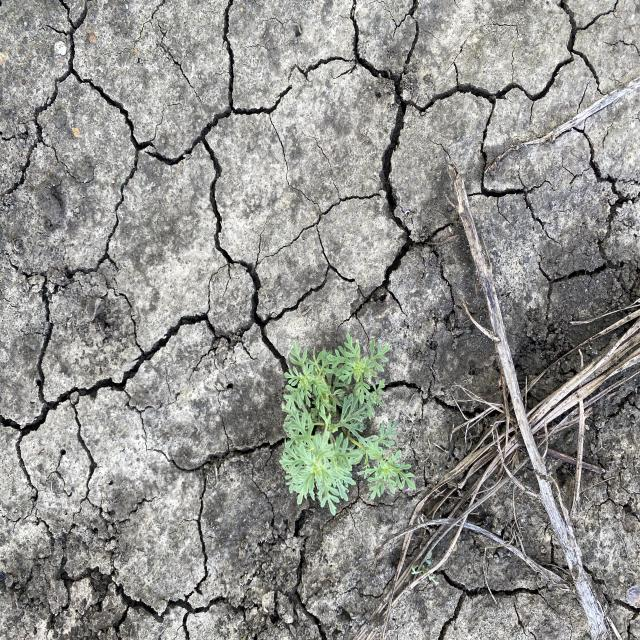Ragweed: (277, 330, 419, 518)
